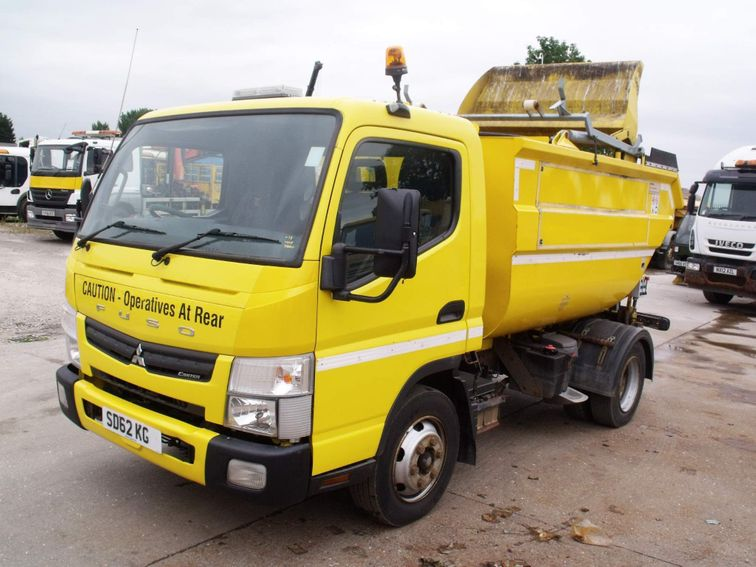Semi: (55, 45, 680, 527), (678, 140, 755, 305), (25, 135, 141, 239)
